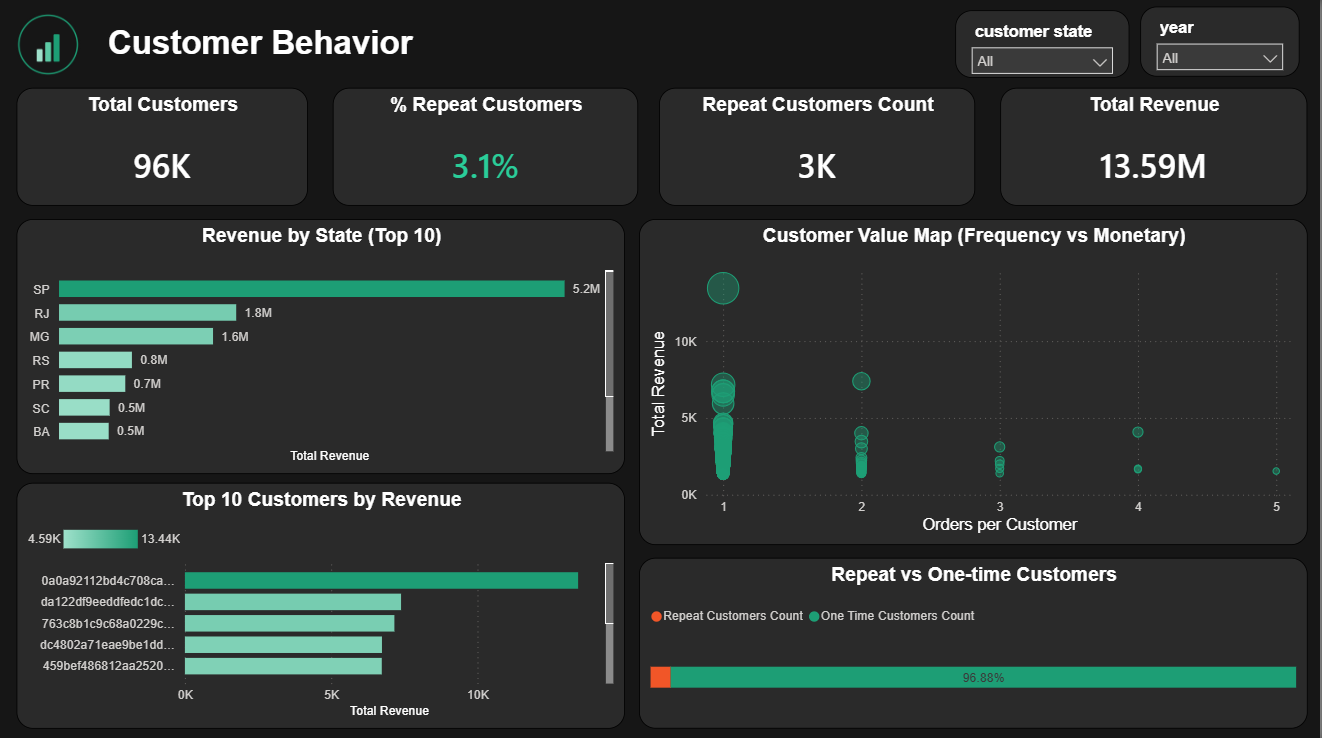

The dashboard page shown, as its layout file describes it:
{"tool":"powerbi","page":{"name":"Customer Behavior","canvas":[1280,720],"ordinal":4},"visuals":[{"type":"cardVisual","title":"Total Customers","fields":{"Data":["_Measures.Total Customers"]},"box":[16.7,85.9,282.2,114.2],"z":0},{"type":"cardVisual","title":"Total Revenue","fields":{"Data":["_Measures.Total Revenue"]},"box":[969.8,85.9,297.6,114.2],"z":1000},{"type":"cardVisual","title":"Repeat Customers Count","fields":{"Data":["_Measures.Repeat Customers Count"]},"box":[640.1,85.9,306.6,114.2],"z":2000},{"type":"slicer","fields":{"Values":["dim_date.year"]},"box":[1105.8,7.8,154.1,67.9],"z":3000},{"type":"slicer","fields":{"Values":["dim_customer.customer_state"]},"box":[927,10.4,168.4,65.3],"z":4000},{"type":"clusteredBarChart","title":"Top 10 Customers by Revenue","fields":{"Category":["dim_customer.customer_unique_id"],"Y":["_Measures.Total Revenue"]},"box":[17,468.8,589.9,238.6],"z":5000},{"type":"clusteredBarChart","title":"Revenue by State (Top 10)","fields":{"Category":["dim_customer.customer_state"],"Y":["_Measures.Total Revenue"]},"box":[17,213.2,589.9,247.1],"z":6000},{"type":"hundredPercentStackedBarChart","title":"Repeat vs One-time Customers","fields":{"Y":["_Measures.Repeat Customers Count","_Measures.One Time Customers Count"]},"box":[620.2,541.5,648.1,166],"z":7000},{"type":"textbox","box":[100.5,19.4,397.5,95],"z":8000},{"type":"cardVisual","title":"% Repeat Customers","fields":{"Data":["_Measures.% Repeat Customers"]},"box":[323.3,85.9,296.3,114.2],"z":9000},{"type":"scatterChart","title":"Customer Value Map (Frequency vs Monetary)","fields":{"Series":["dim_customer.customer_unique_id"],"Size":["_Measures.Average Order Value"],"X":["_Measures.Orders per Customer"],"Y":["_Measures.Total Revenue"]},"box":[620.2,213.2,648.1,316.2],"z":10000},{"type":"image","box":[0,10.9,95.7,66.6],"z":11000}]}

Visuals, with their boxes in screenshot pixels (x1, y1, x2, y2), scaled from the page's 1280x720 canvas onto the 1322x738 screenshot:
"Total Customers" cardVisual: [17, 88, 309, 205]
"Total Revenue" cardVisual: [1002, 88, 1309, 205]
"Repeat Customers Count" cardVisual: [661, 88, 978, 205]
slicer - dim_date.year: [1142, 8, 1301, 78]
slicer - dim_customer.customer_state: [957, 11, 1131, 78]
"Top 10 Customers by Revenue" clusteredBarChart: [18, 481, 627, 725]
"Revenue by State (Top 10)" clusteredBarChart: [18, 219, 627, 472]
"Repeat vs One-time Customers" hundredPercentStackedBarChart: [641, 555, 1310, 725]
textbox: [104, 20, 514, 117]
"% Repeat Customers" cardVisual: [334, 88, 640, 205]
"Customer Value Map (Frequency vs Monetary)" scatterChart: [641, 219, 1310, 543]
image: [0, 11, 99, 79]
